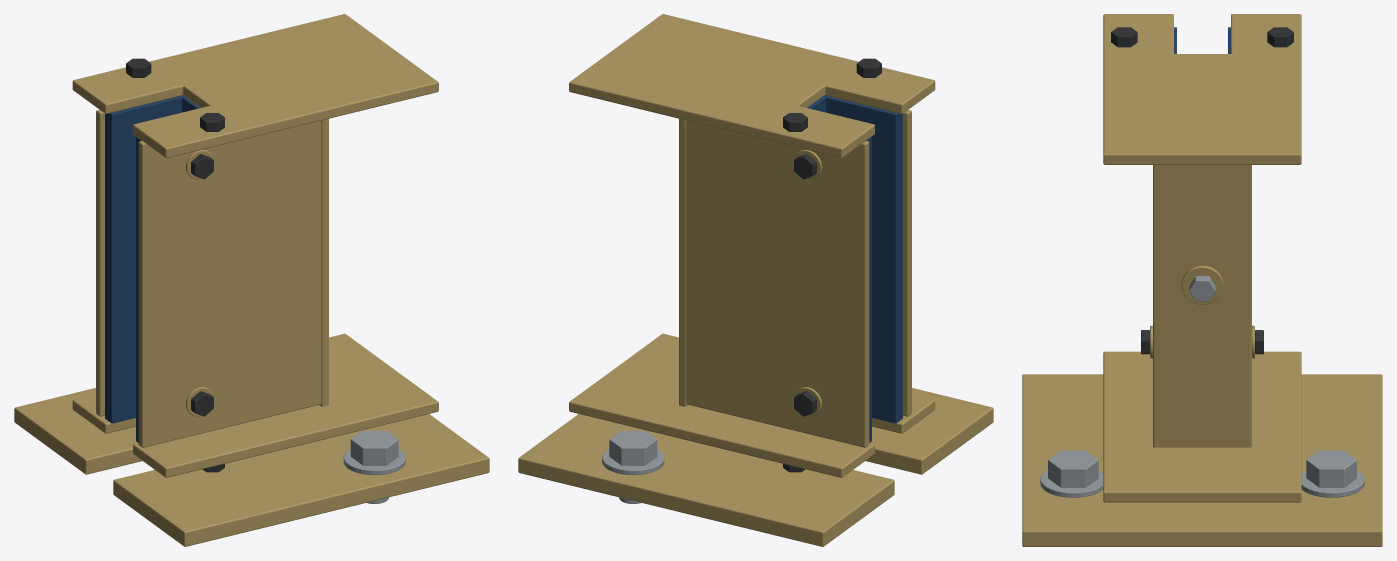
File: car_lower_guide_shoe.glb
3 views of the same model, side by side, from view 1: azimuth 30°, elevation 25°; view 2: azimuth 150°, elevation 25°; view 3: azimuth 270°, elevation 25° (orthographic). The views are drawn at different scales.
Visible parts, largest first — view 1: Housing, Retainers, Adapter, Liner, Fasteners; view 2: Housing, Retainers, Adapter, Liner, Fasteners; view 3: Adapter, Retainers, Fasteners.
Boxes of the visible parts, x1,y1,x2,y2 form: Housing: [96, 109, 321, 447]; Retainers: [72, 14, 438, 477]; Adapter: [14, 56, 489, 546]; Liner: [105, 95, 200, 442]; Fasteners: [126, 58, 405, 503]; Housing: [686, 109, 911, 447]; Retainers: [569, 14, 935, 477]; Adapter: [518, 56, 993, 546]; Liner: [807, 95, 902, 442]; Fasteners: [602, 58, 881, 503]; Adapter: [1022, 107, 1382, 546]; Retainers: [1103, 14, 1301, 502]; Fasteners: [1040, 27, 1364, 497].
Bounding box in the file's own units: 0.124 × 0.154 × 0.12.
